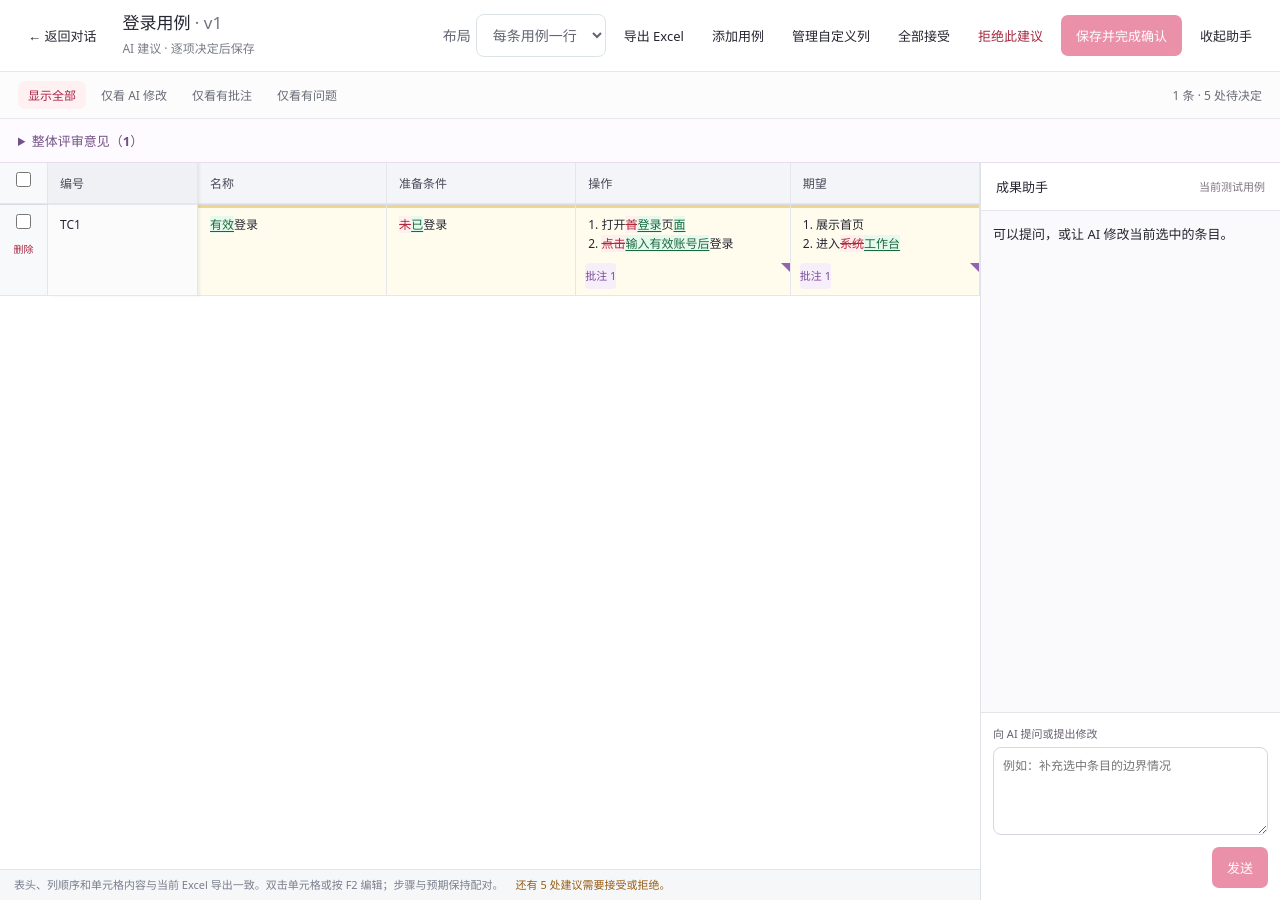
Test: per-step rejection remains visible in the combined case layout while another action is pending
The width and height of the screenshot is (1280, 900).
Expected: the table named "测试用例工作表" is shown, [0, 163, 980, 296]
Select "每个步骤一行" in the dropdown named "表格与 Excel 布局" at (541, 36), box [476, 14, 606, 57]
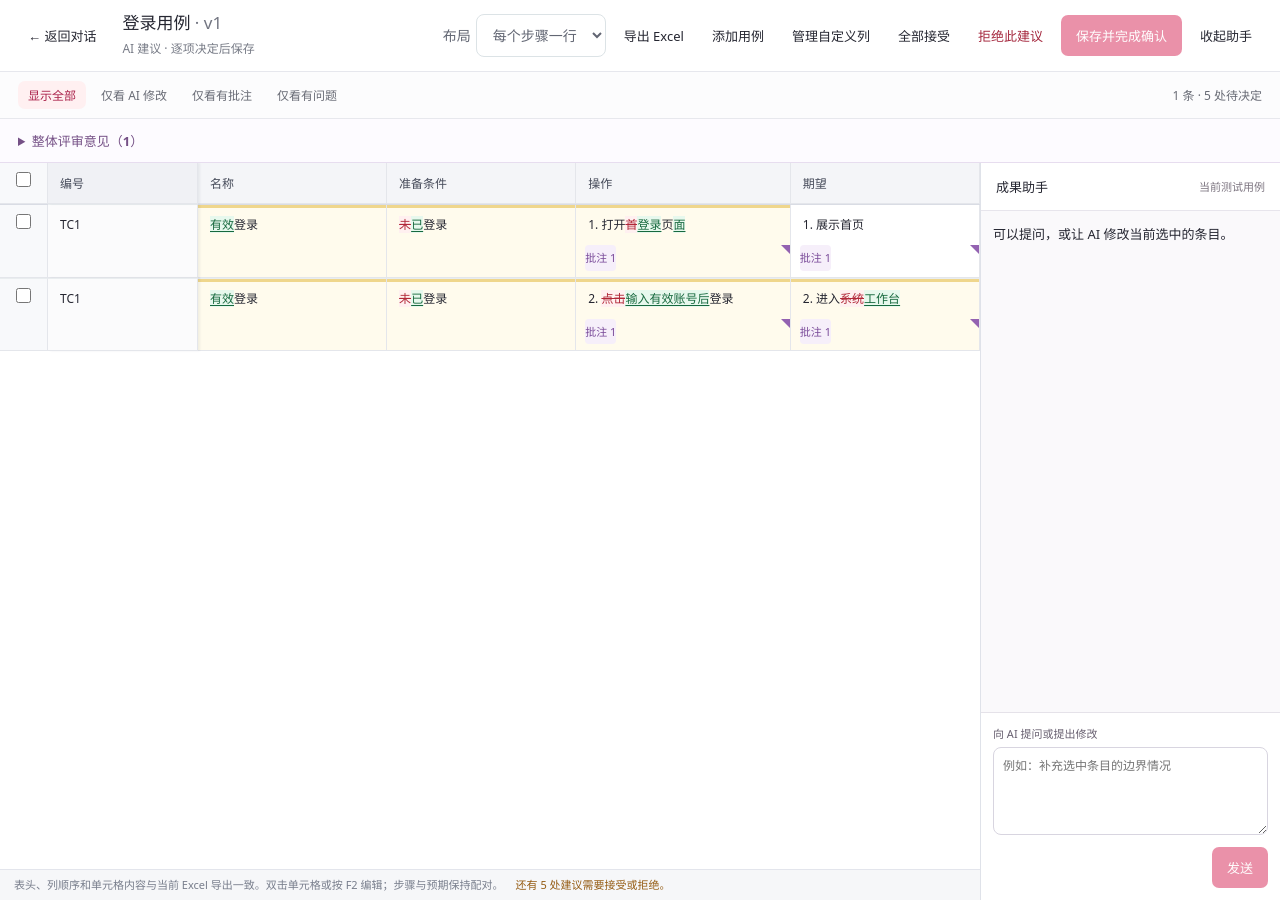
Click the button with aria-label "TC1 操作 第 1 步" at (637, 224), box [588, 216, 686, 233]
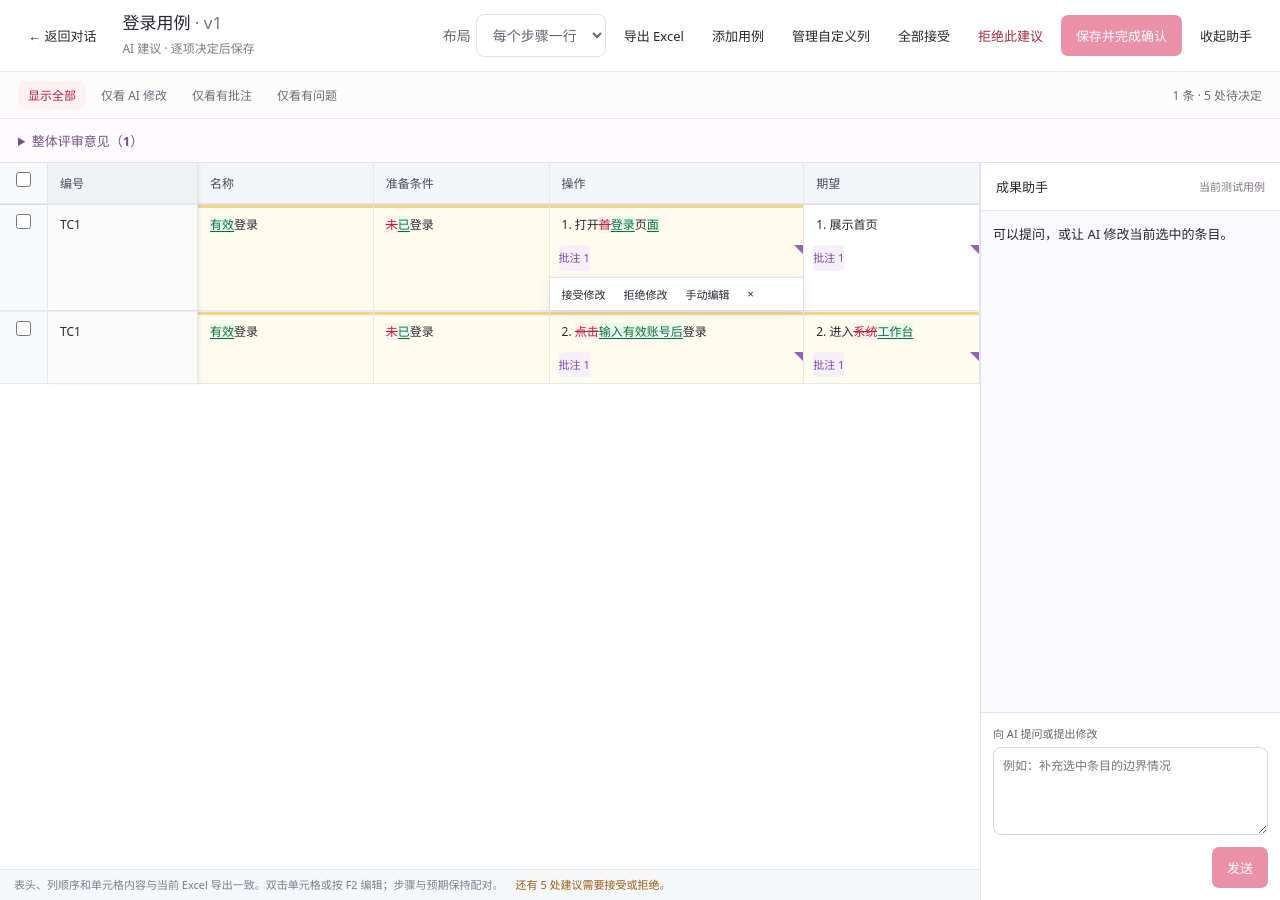
Click the button "拒绝修改" at (646, 294), box [617, 282, 675, 304]
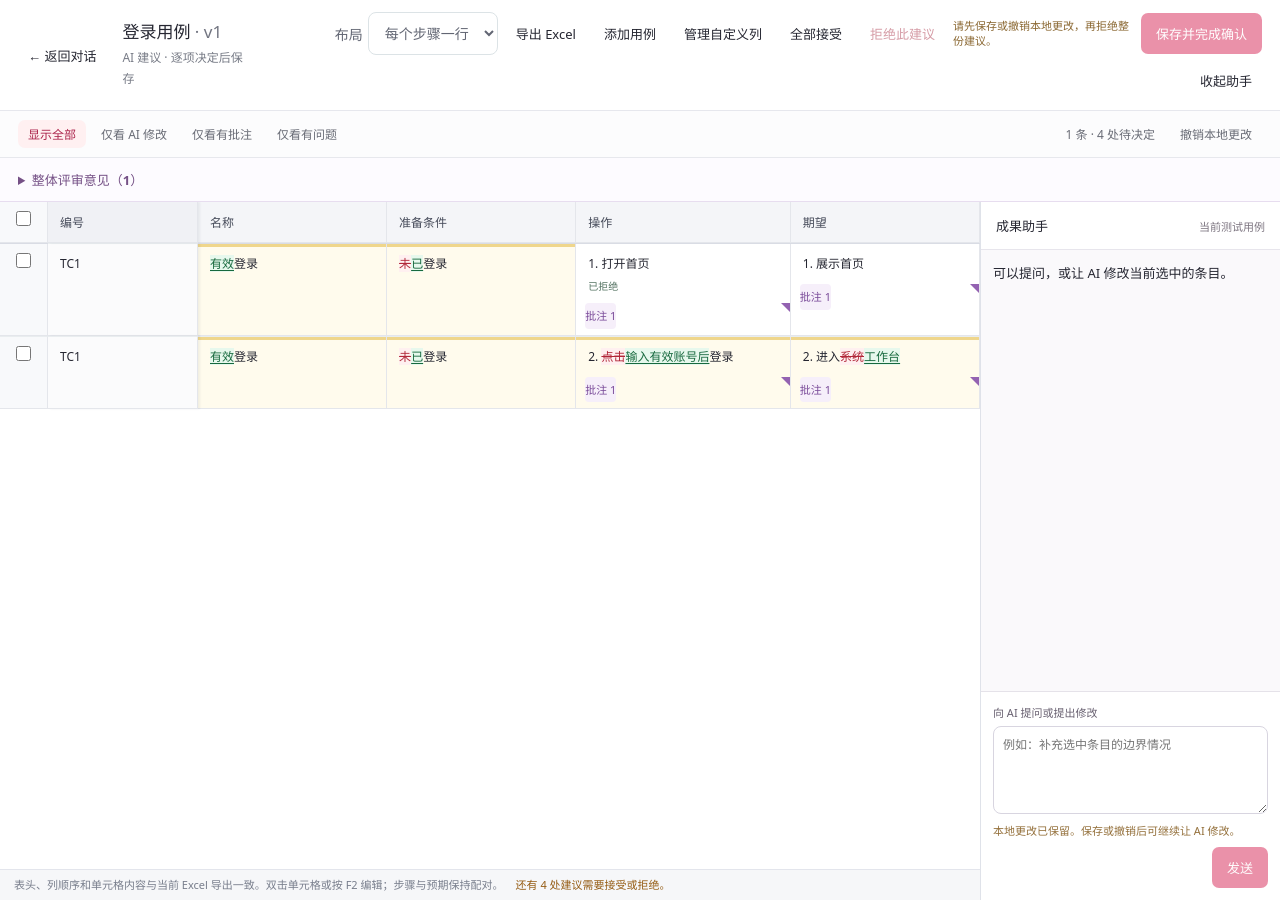
Select "每条用例一行" in the dropdown named "表格与 Excel 布局" at (433, 34), box [368, 12, 498, 55]
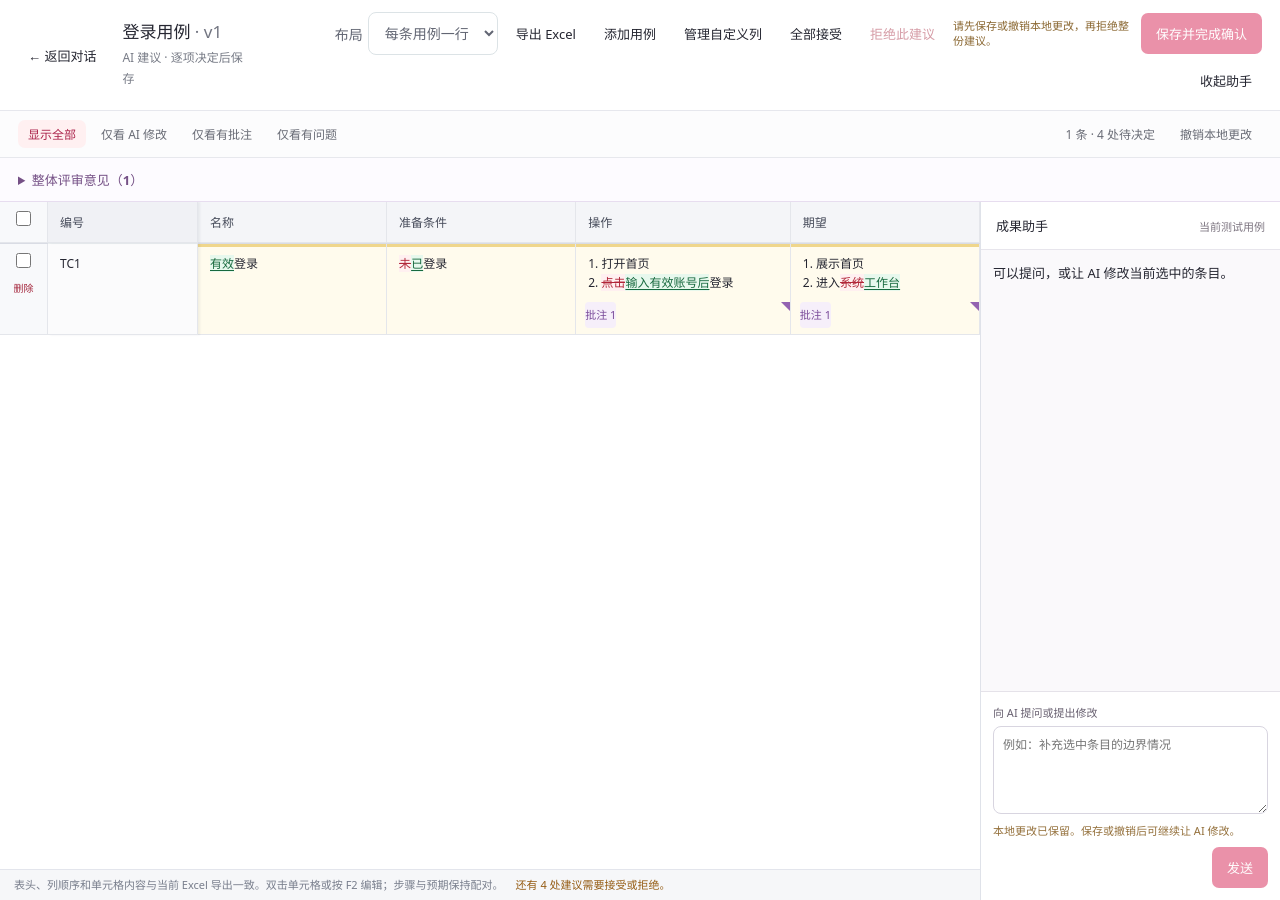
Result: the button with aria-label "TC1 操作" is shown at [588, 255, 734, 291]
